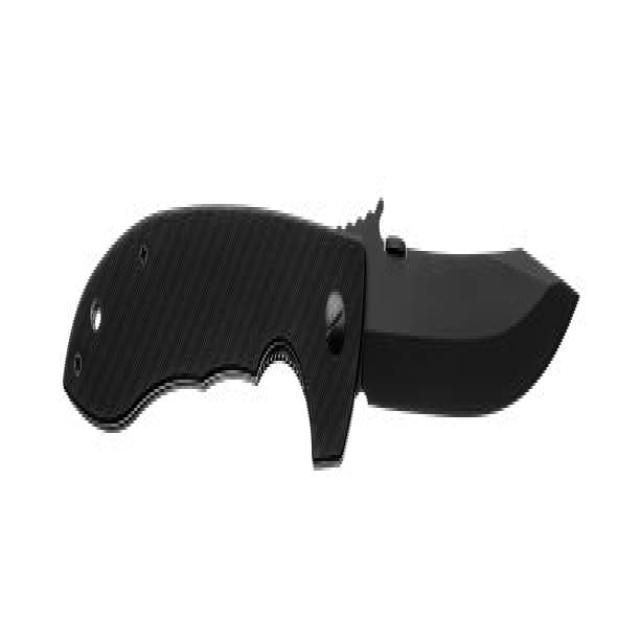knife: (60, 180, 585, 469)
